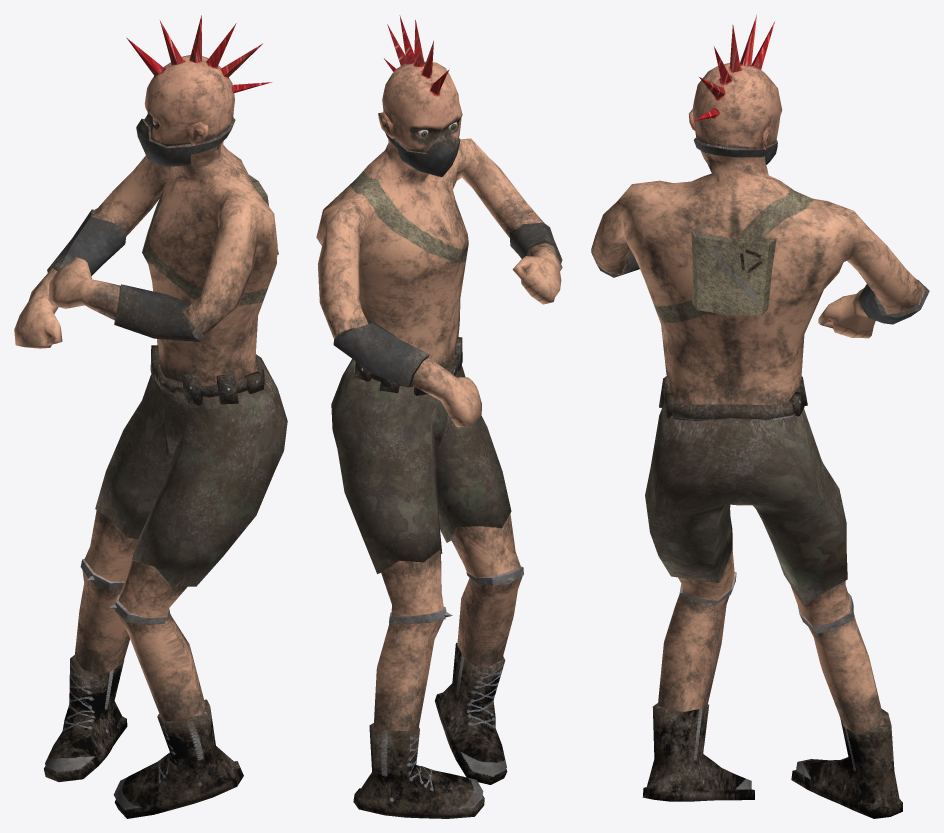
File: Anim_arma_c_npc2.0020.obj
3 views of the same model, side by side, from view 1: azimuth 30°, elevation 25°; view 2: azimuth 150°, elevation 25°; view 3: azimuth 270°, elevation 25° (orthographic). The views are drawn at different scales.
Parts seen in each view (by area): view 1: polySurface1; view 2: polySurface1; view 3: polySurface1.
Part boxes in pixels (x1,y1,x2,y2): polySurface1: (14, 15, 287, 818); polySurface1: (316, 15, 562, 818); polySurface1: (591, 15, 929, 818).
Size of the model in its own units: 2.89 by 10.05 by 3.77.
